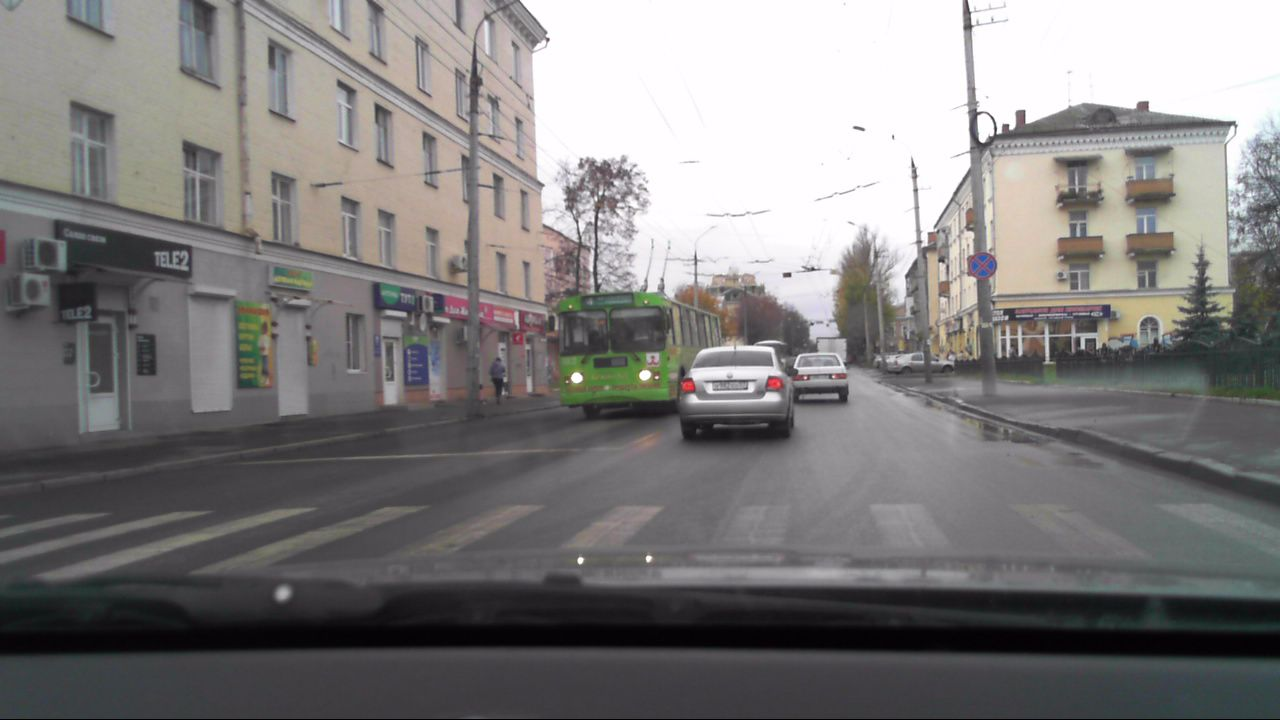No Parking: (966, 250, 995, 279)
